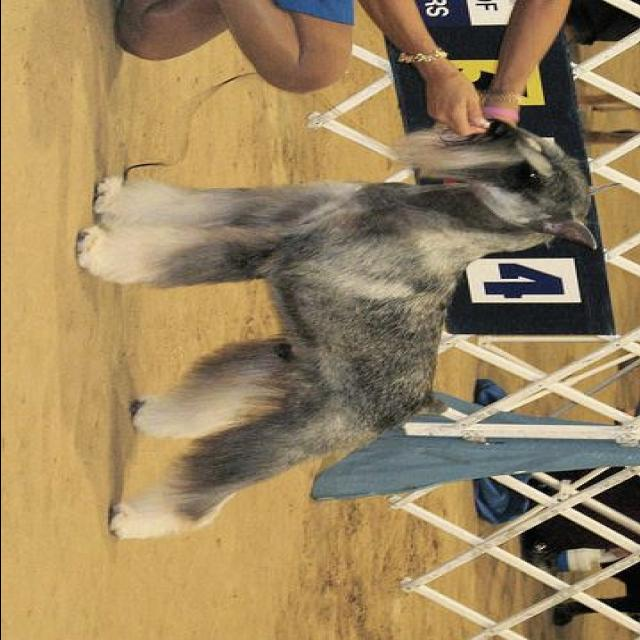standard_schnauzer: (77, 114, 626, 542)
